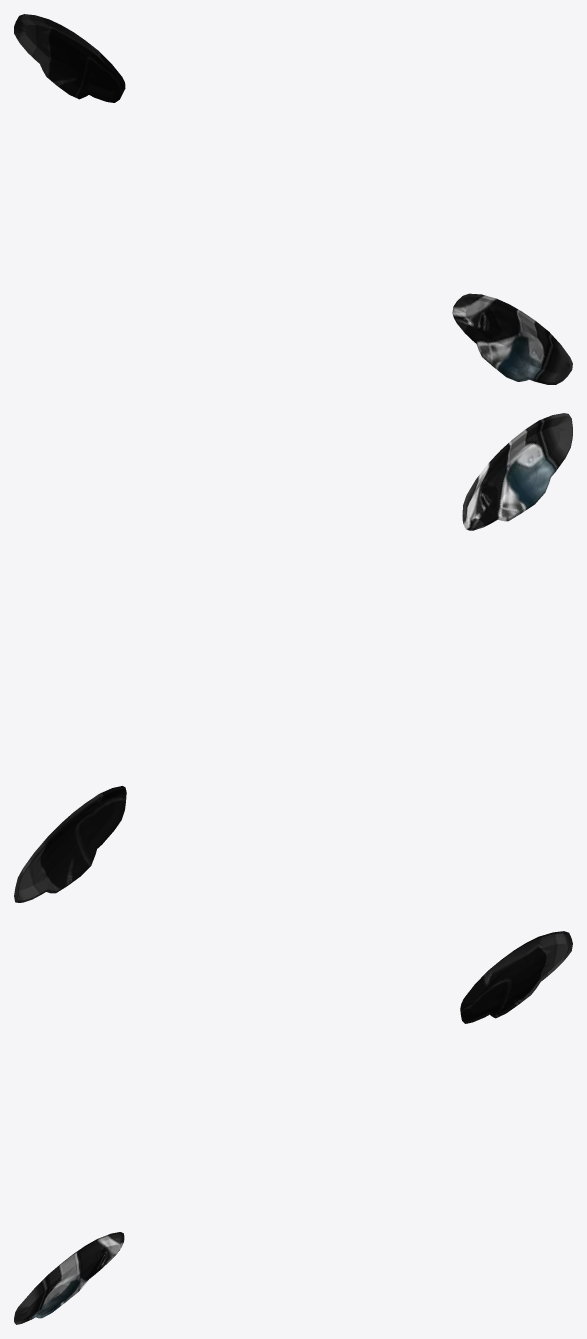
Rendered from l_cavity.glb.
The picture shows the model from 3 angles, top to bottom: view 1: azimuth 30°, elevation 25°; view 2: azimuth 150°, elevation 25°; view 3: azimuth 330°, elevation 25°; orthographic projection. The views are drawn at different scales.
Parts seen in each view (by area): view 1: L_cavity; view 2: L_cavity; view 3: L_cavity.
Part boxes in pixels (bbox=[...]): L_cavity: bbox=[14, 14, 572, 384]; L_cavity: bbox=[14, 413, 572, 902]; L_cavity: bbox=[14, 931, 572, 1324].
Size of the model in its own units: 0.0375 by 0.1354 by 1.42.
1 material, 1 textured.
